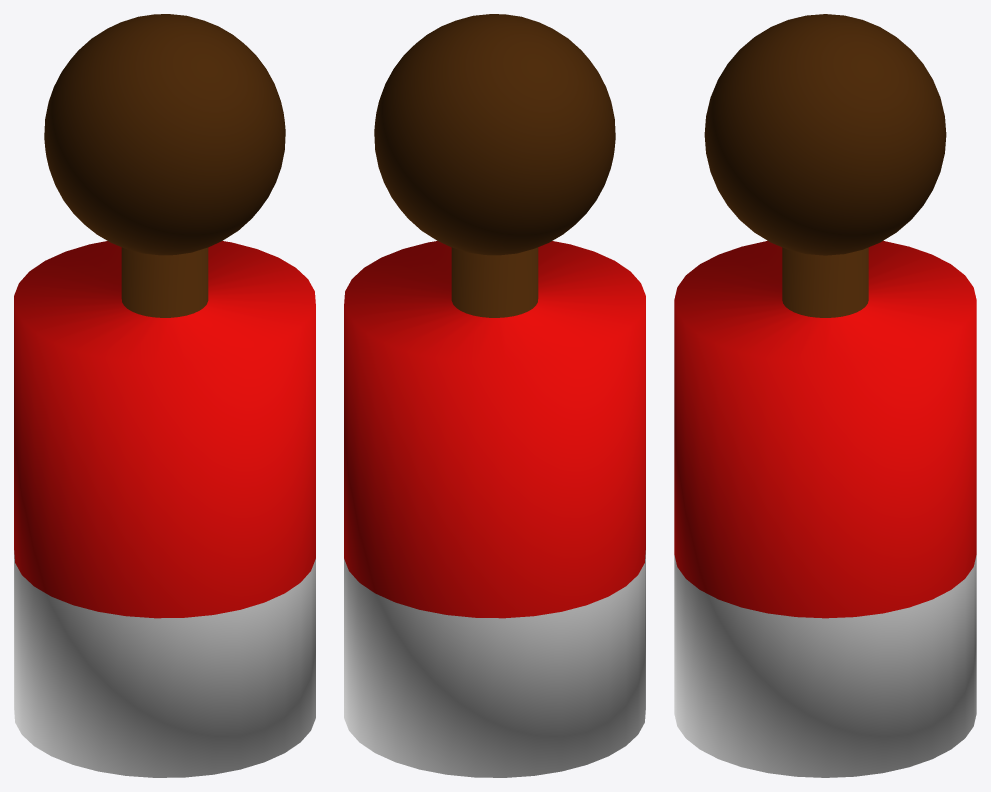
The model's file is Character_03.fbx.
3 renders of one model, left to right at view 1: azimuth 30°, elevation 25°; view 2: azimuth 150°, elevation 25°; view 3: azimuth 270°, elevation 25°, orthographic.
Parts seen in each view (by area): view 1: Circle.007, Icosphere.007; view 2: Circle.007, Icosphere.007; view 3: Circle.007, Icosphere.007.
Part boxes in pixels (x1,y1,x2,y2): Circle.007: (14, 241, 315, 777); Icosphere.007: (44, 14, 285, 255); Circle.007: (344, 241, 645, 777); Icosphere.007: (374, 14, 615, 255); Circle.007: (674, 240, 976, 777); Icosphere.007: (704, 14, 946, 255).
Size of the model in its own units: 200 by 503 by 200.
